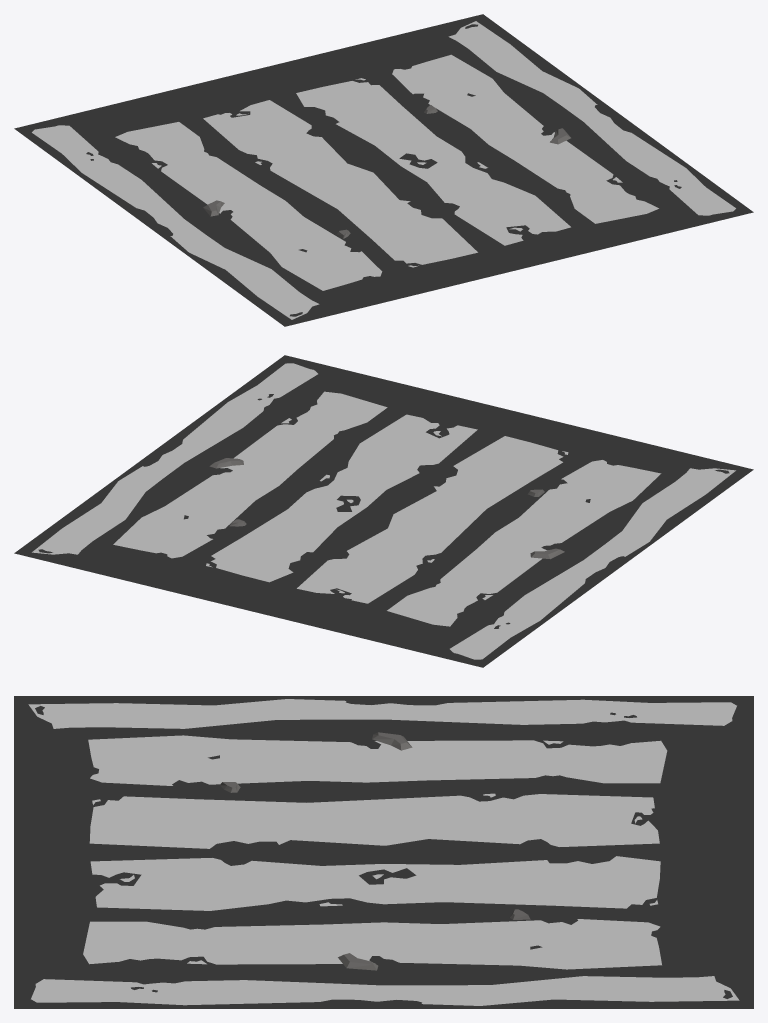
Rendered from Asphalt_11.FBX.
3 renders of one model, top to bottom at view 1: azimuth 30°, elevation 25°; view 2: azimuth 150°, elevation 25°; view 3: azimuth 270°, elevation 25°, orthographic. The views are drawn at different scales.
Visible parts, largest first — view 1: Asphalt_11; view 2: Asphalt_11; view 3: Asphalt_11.
Boxes of the visible parts, x1,y1,x2,y2 form: Asphalt_11: [14, 14, 753, 326]; Asphalt_11: [14, 355, 753, 667]; Asphalt_11: [14, 696, 753, 1008].
Bounding box in the file's own units: 5 × 0.03 × 5.
